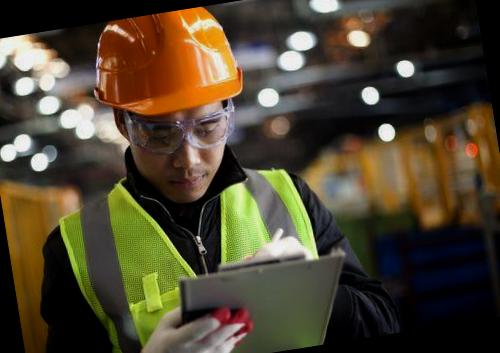helmet: (67, 0, 261, 129)
person: (2, 0, 353, 353)
